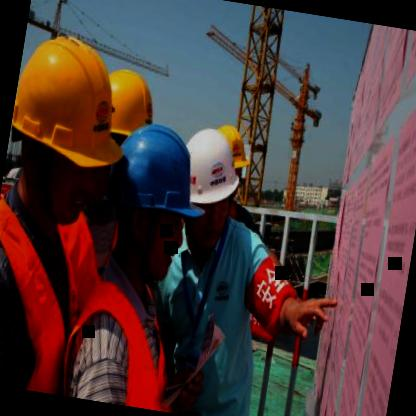helmet: (0, 18, 140, 241), (100, 106, 216, 282), (76, 60, 166, 217), (176, 124, 245, 242), (212, 118, 256, 182)
